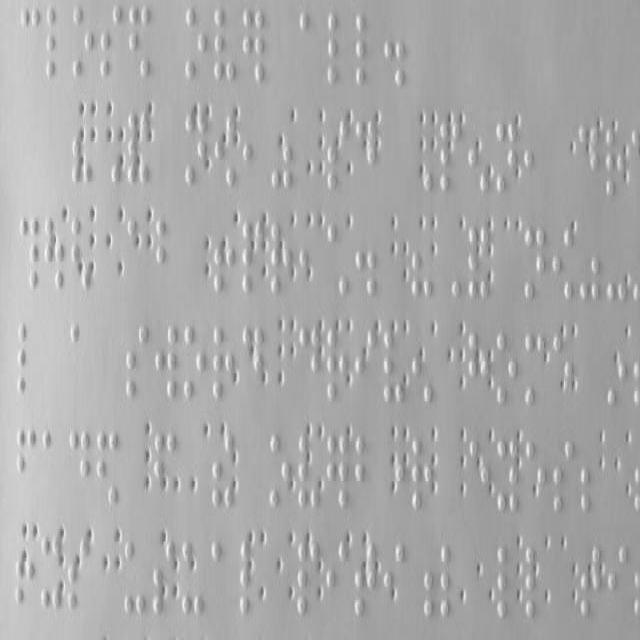braiile: (16, 320, 46, 396), (123, 319, 149, 401), (154, 216, 180, 296), (68, 320, 94, 396), (381, 328, 405, 406), (354, 11, 378, 87), (154, 324, 178, 400), (182, 326, 205, 404), (495, 331, 517, 411), (523, 329, 545, 409), (268, 431, 290, 511), (123, 538, 145, 618), (326, 11, 349, 87), (213, 5, 235, 84), (523, 223, 545, 301), (298, 326, 320, 404), (325, 328, 347, 406), (68, 428, 90, 506), (496, 439, 518, 517), (296, 539, 318, 617), (326, 539, 348, 617), (411, 434, 432, 514), (100, 4, 122, 80), (184, 111, 206, 187), (494, 120, 516, 196), (212, 324, 234, 400), (552, 440, 574, 516), (439, 544, 461, 620), (185, 7, 207, 82), (45, 8, 67, 82), (603, 128, 625, 202), (354, 434, 376, 508), (209, 538, 231, 612), (496, 545, 518, 619), (298, 11, 320, 82), (40, 533, 60, 609), (607, 542, 627, 618), (16, 427, 36, 502), (72, 7, 92, 78), (42, 429, 62, 500), (20, 8, 40, 76)
